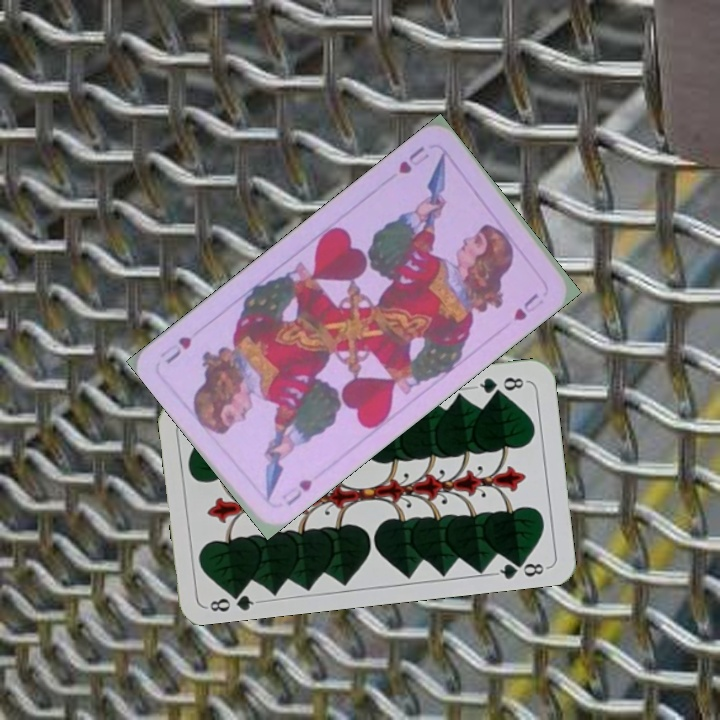G8: (203, 585, 262, 614), (470, 373, 529, 397)
HU: (394, 142, 428, 177), (283, 475, 315, 509)
